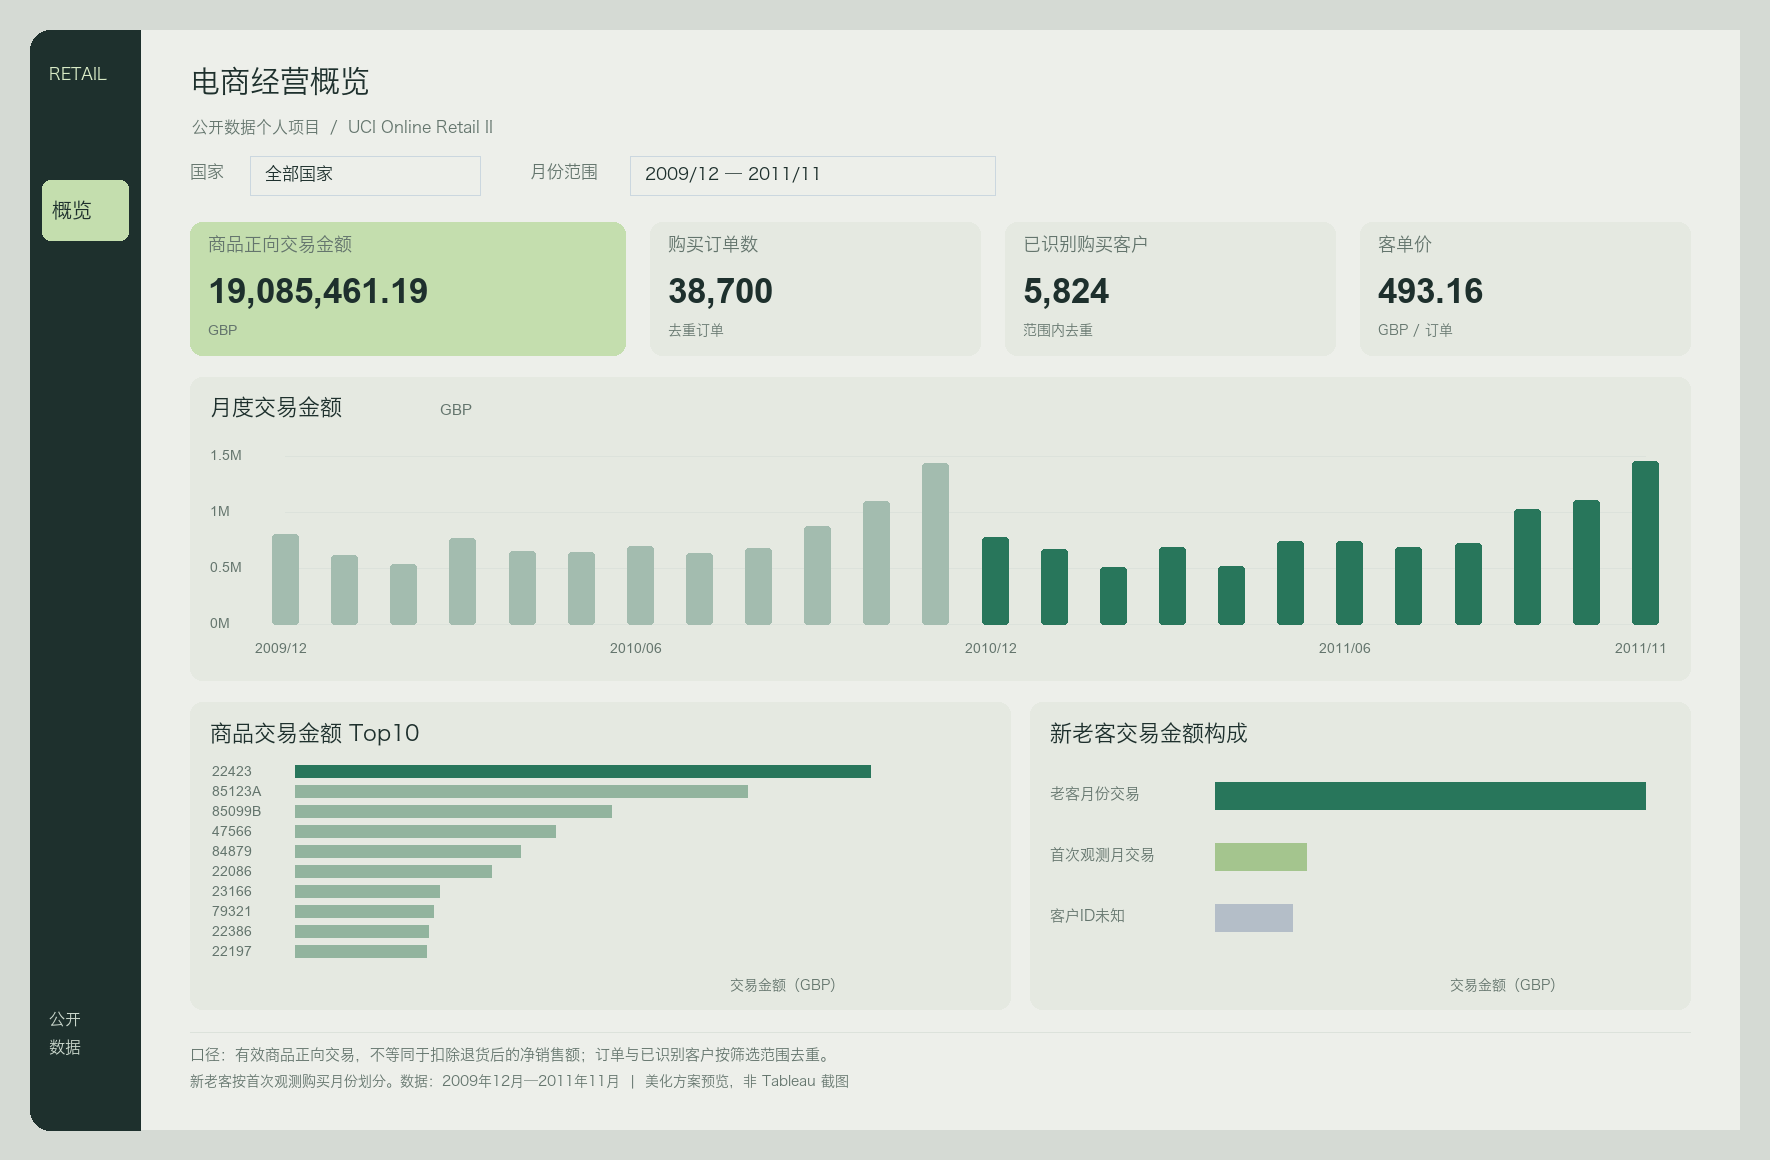

The page's visual inventory and layout, read from the dashboard file:
{"tool":"tableau","page":{"name":"电商经营概览","canvas":[1200,800],"ordinal":0},"visuals":[{"type":"title","box":[8,8,1184,70]},{"type":"filter","title":"经营概览－商品排名","param":"[federated.157g0j00ozi3fg13ckk121qpsyf8].[none:Country:nk]","box":[8,78,430,63]},{"type":"filter","title":"经营概览－月度趋势","param":"[federated.157g0j00ozi3fg13ckk121qpsyf8].[none:Month:qk]","box":[438,78,754,63]},{"type":"worksheet","title":"经营概览－金额","mark":"Text","box":[8,141,296,82]},{"type":"worksheet","title":"经营概览－订单数","mark":"Automatic","box":[304,141,296,82]},{"type":"worksheet","title":"经营概览－客户数","mark":"Automatic","box":[600,141,296,82]},{"type":"worksheet","title":"经营概览－客单价","mark":"Automatic","box":[896,141,296,82]},{"type":"worksheet","title":"经营概览－月度趋势","mark":"Bar","rows":["LineAmount"],"cols":["Month"],"box":[8,222.7,1184,222.3]},{"type":"worksheet","title":"经营概览－商品排名","mark":"Automatic","rows":["StockCode","Calculation_2552719231754242"],"cols":["LineAmount"],"box":[8,445,608,306]},{"type":"worksheet","title":"经营概览－新老客构成","mark":"Bar","rows":["CustomerType"],"cols":["LineAmount"],"box":[616,445,576,306]},{"type":"text","box":[8,751,1184,41]}]}

Visuals, with their boxes on the page's 1200x800 design canvas (x1, y1, x2, y2). These are canvas units, not pixel positions in the 1770x1160 screenshot, which may show the page scaled, cropped or inside an application window:
title: left=8, top=8, right=1192, bottom=78
"经营概览－商品排名" filter: left=8, top=78, right=438, bottom=141
"经营概览－月度趋势" filter: left=438, top=78, right=1192, bottom=141
"经营概览－金额" worksheet (Text marks): left=8, top=141, right=304, bottom=223
"经营概览－订单数" worksheet: left=304, top=141, right=600, bottom=223
"经营概览－客户数" worksheet: left=600, top=141, right=896, bottom=223
"经营概览－客单价" worksheet: left=896, top=141, right=1192, bottom=223
"经营概览－月度趋势" worksheet (Bar marks): left=8, top=223, right=1192, bottom=445
"经营概览－商品排名" worksheet: left=8, top=445, right=616, bottom=751
"经营概览－新老客构成" worksheet (Bar marks): left=616, top=445, right=1192, bottom=751
text: left=8, top=751, right=1192, bottom=792
